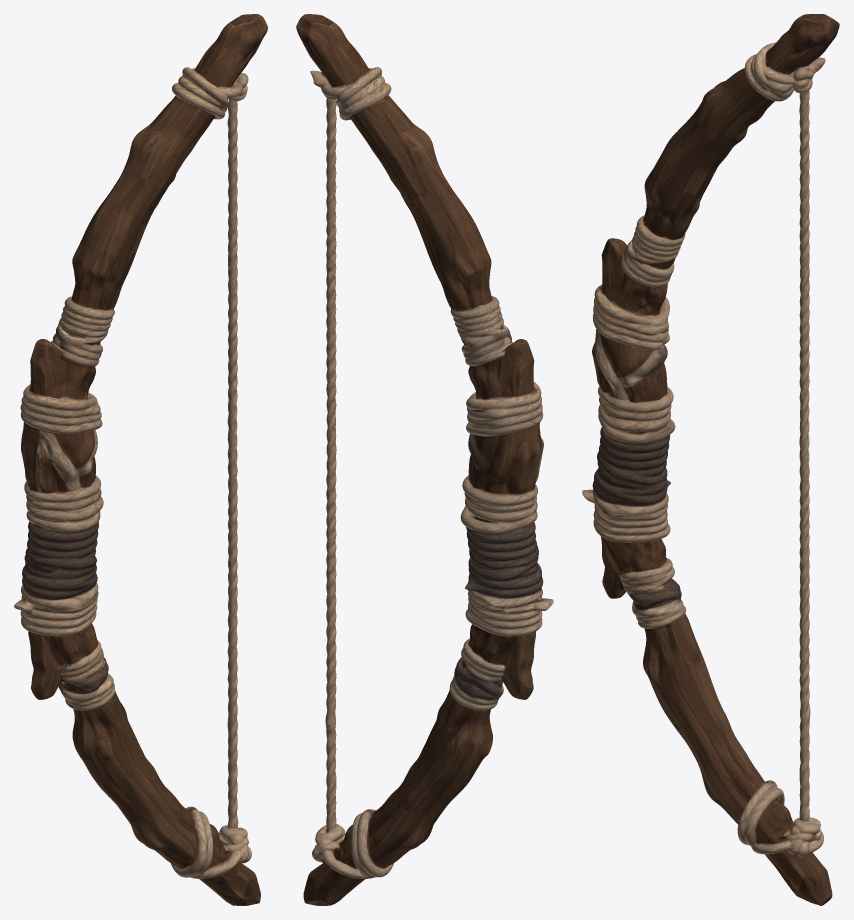
Rendered from bow.glb.
3 views of the same model, side by side, from view 1: azimuth 30°, elevation 25°; view 2: azimuth 150°, elevation 25°; view 3: azimuth 330°, elevation 25° (orthographic).
Bounding box in the file's own units: 0.5593 × 1.9 × 0.1473.
Materials: 1 (1 with a texture image).
